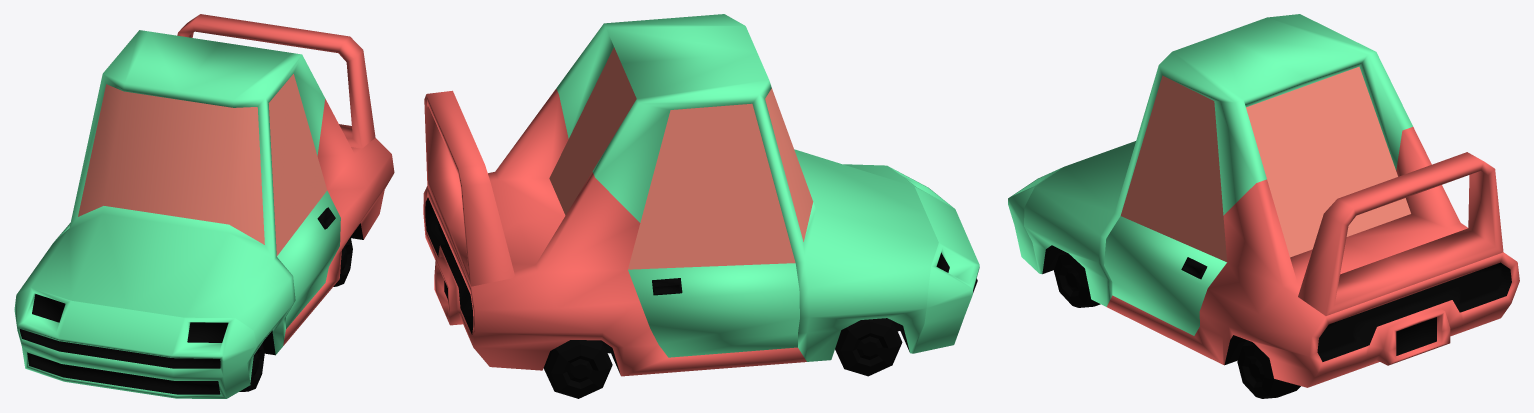
File: ToyObject_156.fbx
3 views of the same model, side by side, from view 1: azimuth 30°, elevation 25°; view 2: azimuth 150°, elevation 25°; view 3: azimuth 270°, elevation 25° (orthographic). The views are drawn at different scales.
Parts seen in each view (by area): view 1: object-1.062; view 2: object-1.062; view 3: object-1.062.
Boxes of the visible parts, box(x1,y1,x2,y2) form: object-1.062: box(14, 14, 394, 398); object-1.062: box(423, 14, 979, 398); object-1.062: box(1008, 14, 1519, 398).
Bounding box in the file's own units: 0.2069 × 0.1152 × 0.1968.
